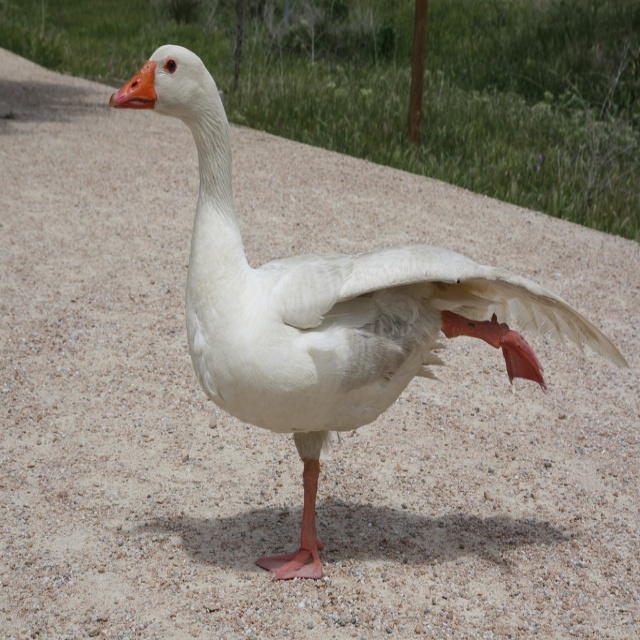Duck: (109, 44, 632, 582)
